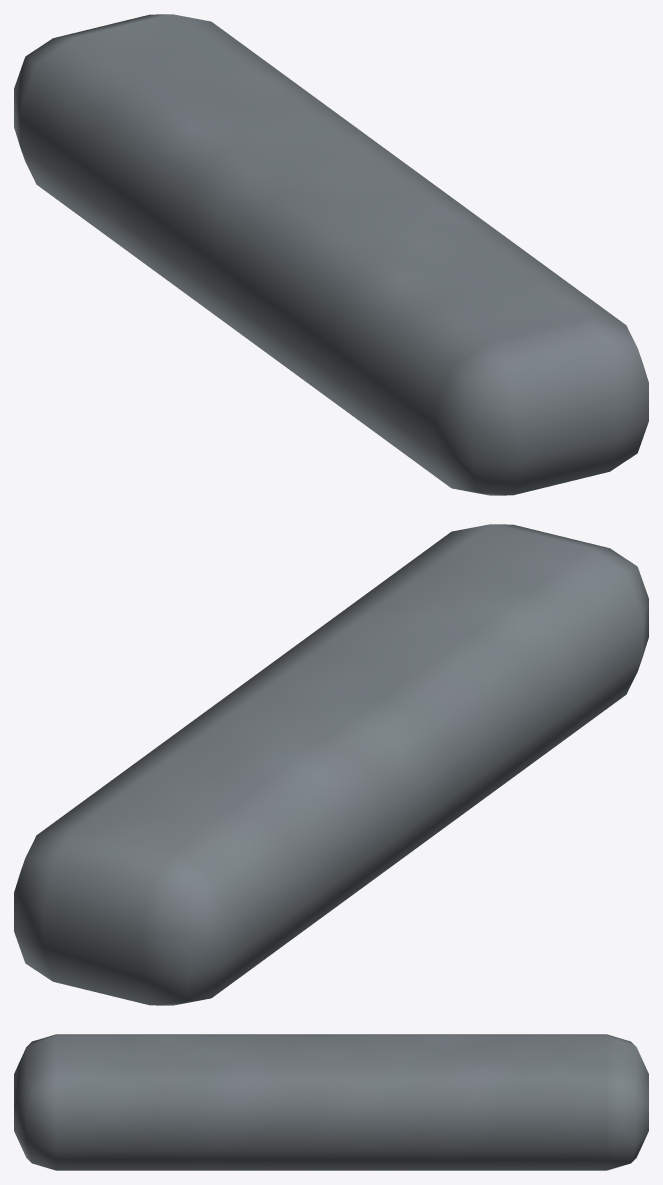
3 renders of one model, top to bottom at view 1: azimuth 30°, elevation 25°; view 2: azimuth 150°, elevation 25°; view 3: azimuth 270°, elevation 25°, orthographic. The views are drawn at different scales.
Bounding box in the file's own units: 0.045 × 0.032 × 0.18.
1 material, 1 textured.
